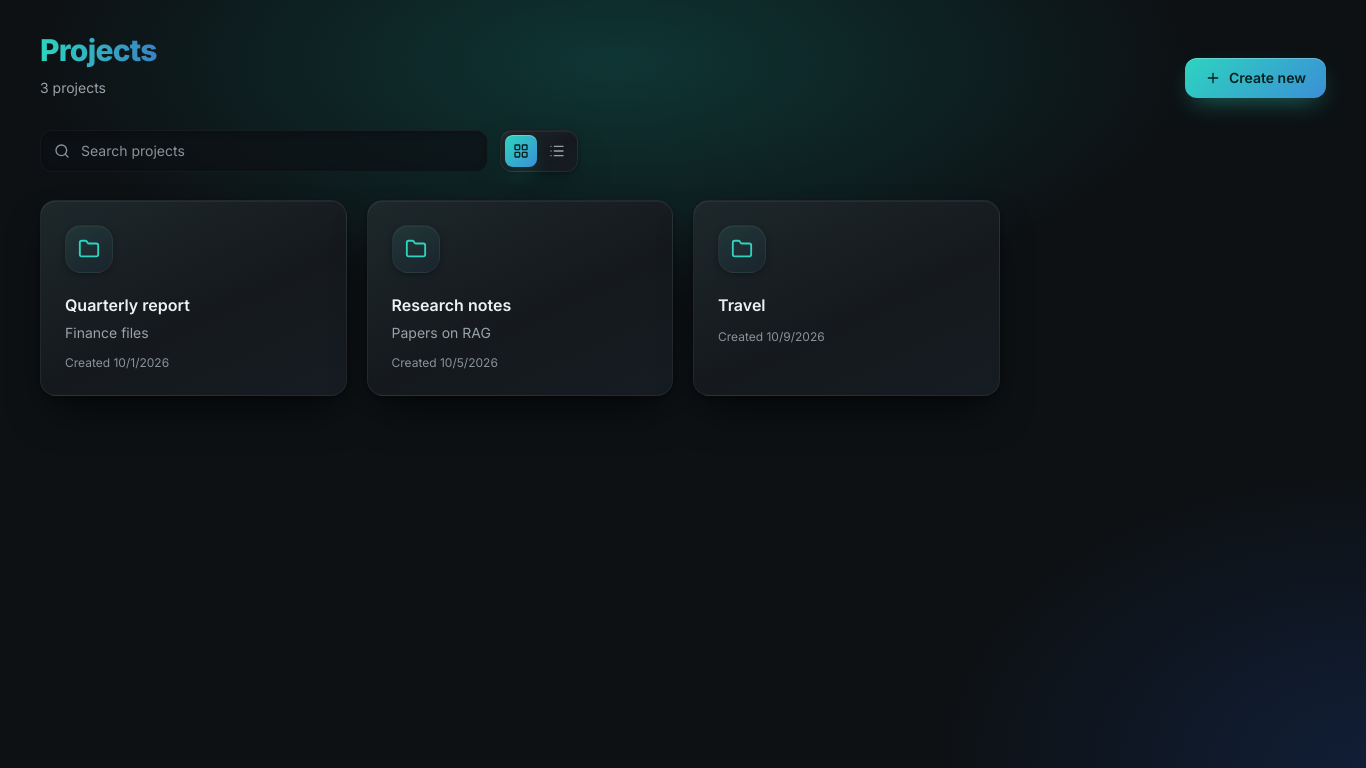
Test: projects page › P05 the view toggle switches between grid and list layouts
This screenshot has width=1366, height=768.
expect the heading "Quarterly report" is shown: met, box x1=65 y1=295 x2=190 y2=315
Click the button named "List view": [557, 151] box x1=541 y1=135 x2=573 y2=167
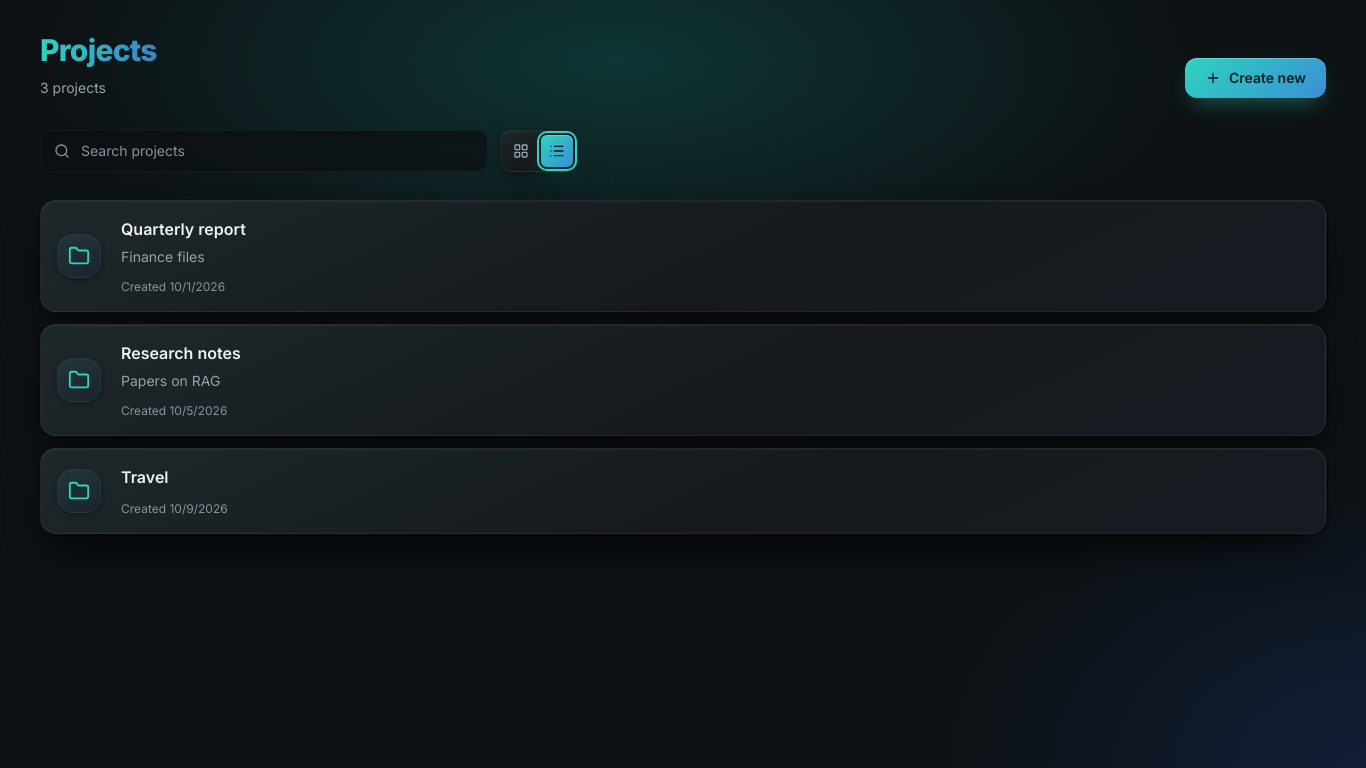
expect the list has class "flex-col": met, box x1=40 y1=200 x2=1326 y2=534
expect the button named "List view" is pressed: met, box x1=541 y1=135 x2=573 y2=167
